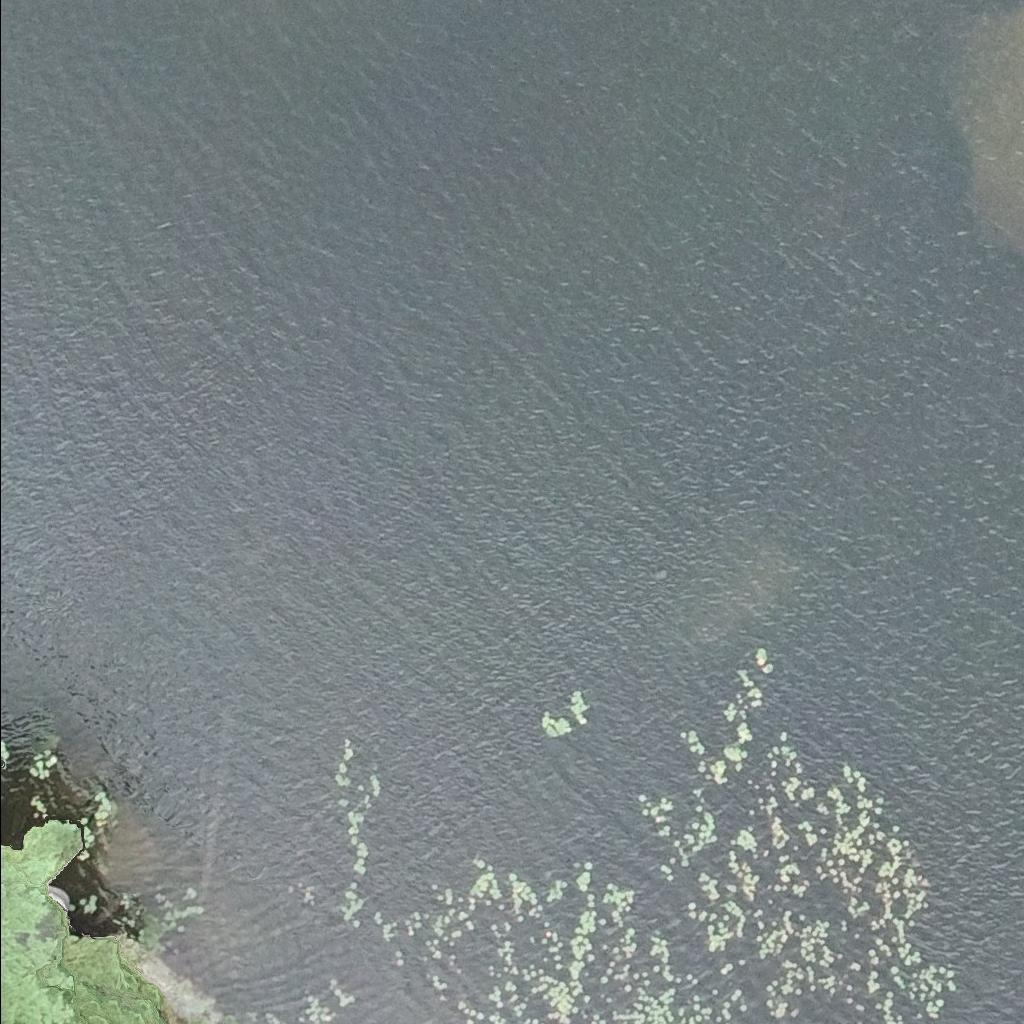crown: (0, 818, 82, 1023)
